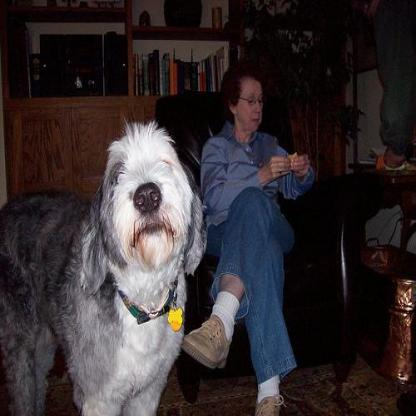Old_English_sheepdog: (0, 118, 204, 414)
